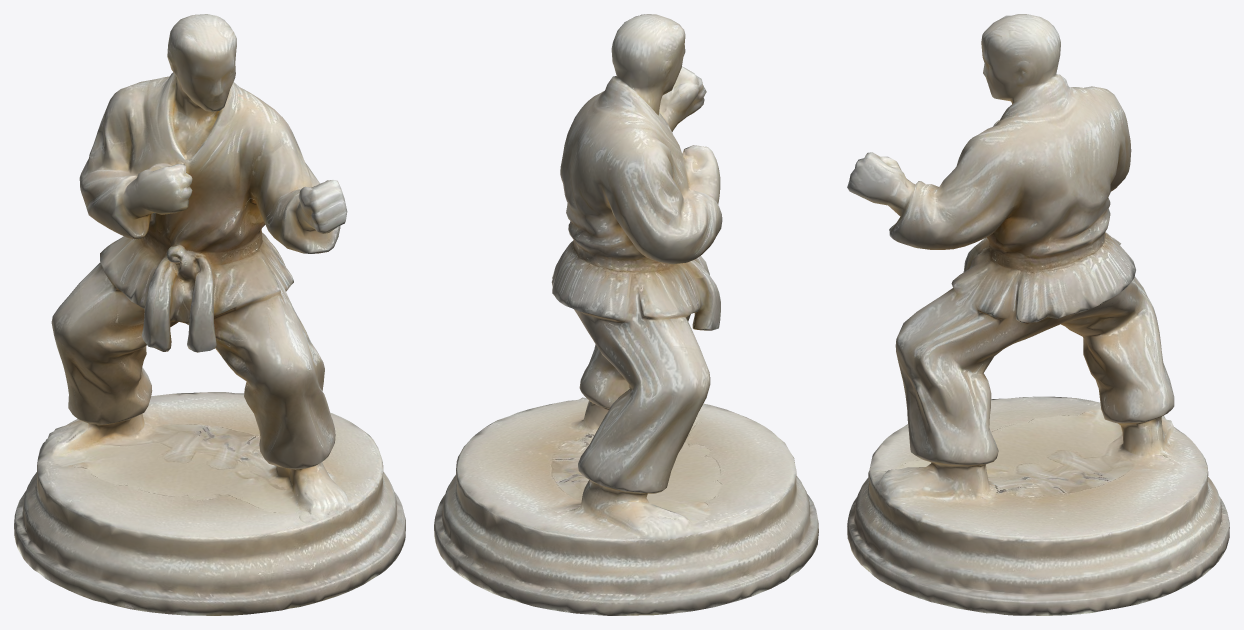
File: draw_statue3_white.glb
3 views of the same model, side by side, from view 1: azimuth 30°, elevation 25°; view 2: azimuth 150°, elevation 25°; view 3: azimuth 270°, elevation 25° (orthographic). The views are drawn at different scales.
Visible parts, largest first — view 1: texture_mapping; view 2: texture_mapping; view 3: texture_mapping.
Part boxes in pixels (x1,y1,x2,y2): texture_mapping: [14, 14, 405, 615]; texture_mapping: [434, 14, 818, 615]; texture_mapping: [847, 14, 1229, 615].
Size of the model in its own units: 0.6785 by 1 by 0.6792.
1 material, 1 textured.
